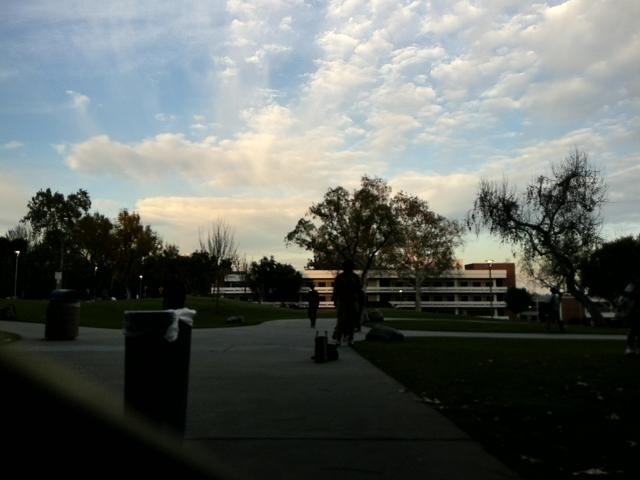trashcan_open: (121, 304, 200, 446)
